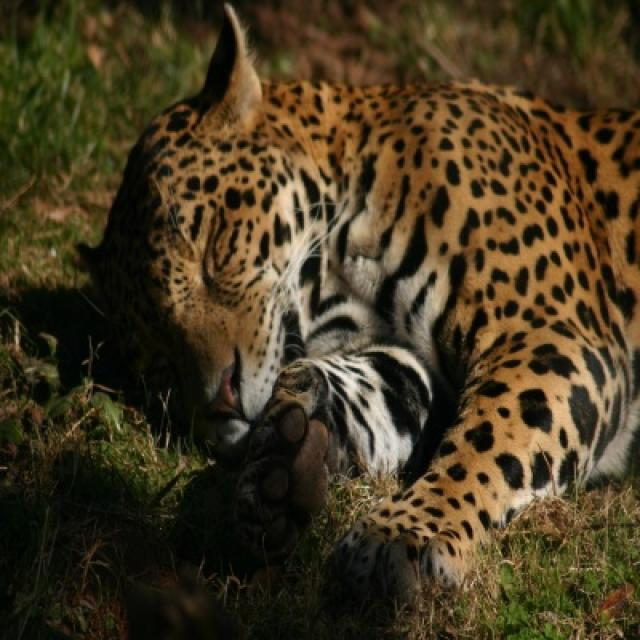Jaguar: (82, 6, 638, 594)
